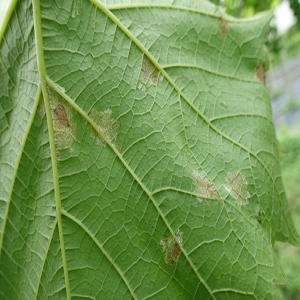Folha: (1, 0, 298, 299)
Fungo: (86, 106, 120, 148), (190, 168, 220, 202), (223, 170, 250, 206), (159, 228, 183, 266), (140, 54, 164, 87), (53, 102, 70, 128), (255, 61, 266, 86)
